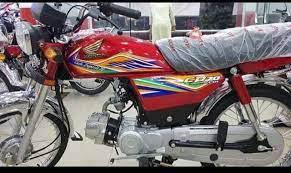bike: (1, 1, 291, 173)
